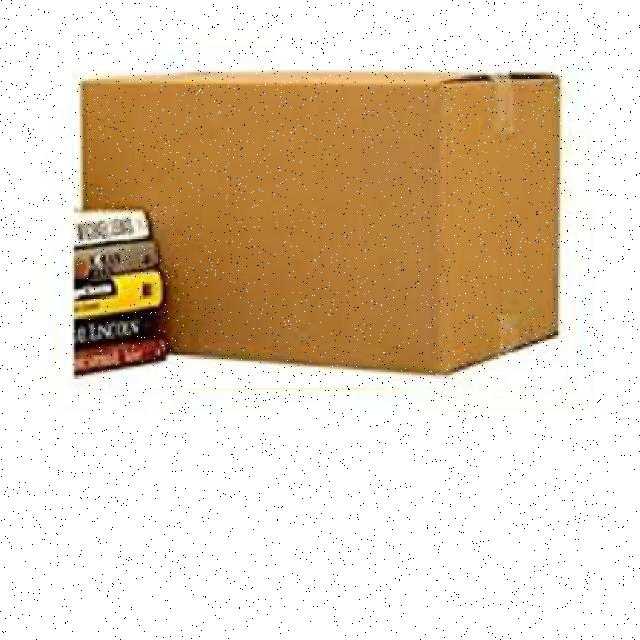normal: (72, 70, 565, 388)
